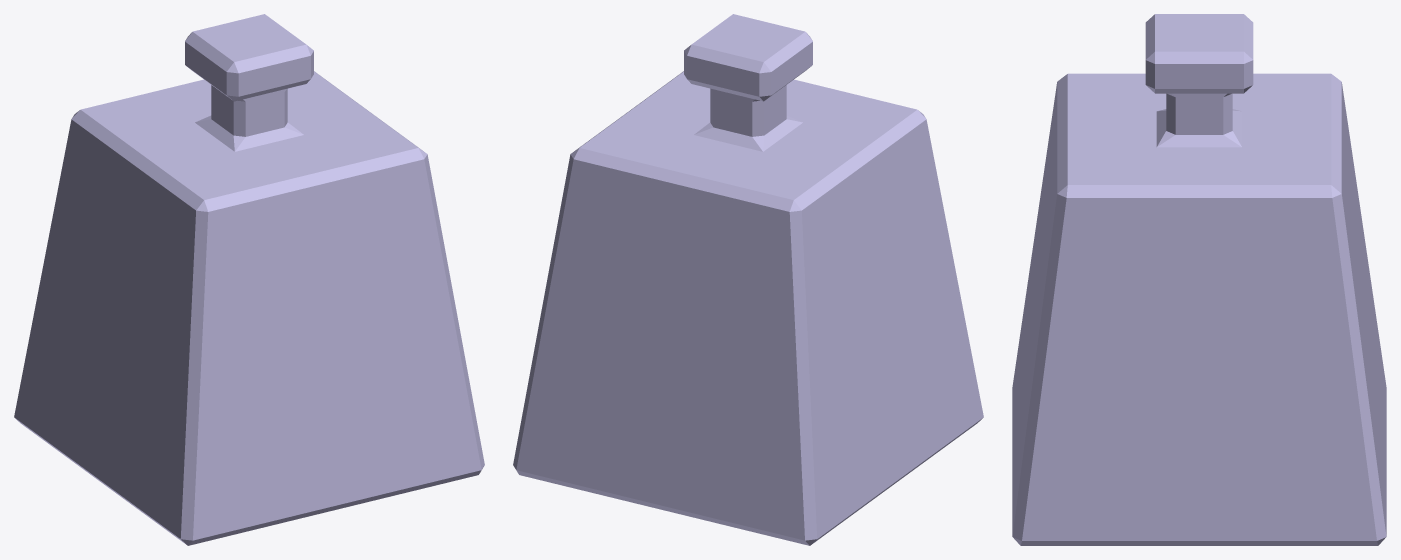
File: weight.glb
The picture shows the model from 3 angles, left to right: view 1: azimuth 30°, elevation 25°; view 2: azimuth 150°, elevation 25°; view 3: azimuth 270°, elevation 25°; orthographic projection. The views are drawn at different scales.
Parts seen in each view (by area): view 1: weight; view 2: weight; view 3: weight.
Boxes of the visible parts, bbox=[...] form: weight: bbox=[14, 14, 484, 545]; weight: bbox=[513, 14, 983, 545]; weight: bbox=[1012, 14, 1386, 545].
Size of the model in its own units: 1.99 by 2.57 by 1.99.
